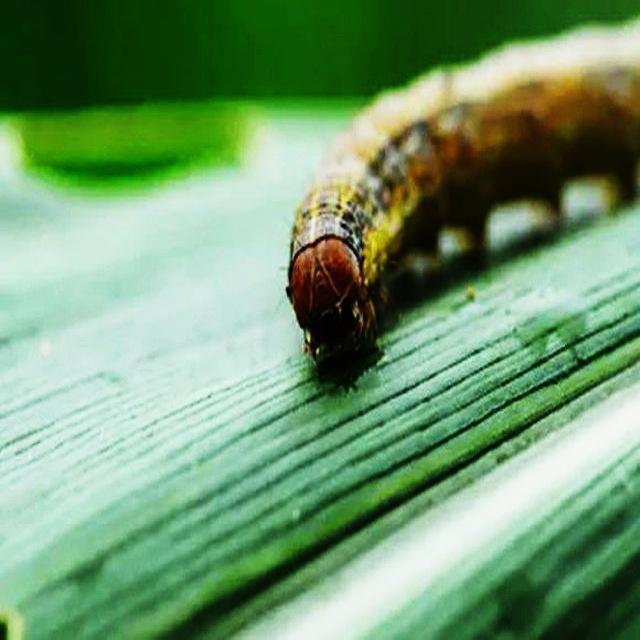gusano_cogollero: (281, 16, 640, 366)
